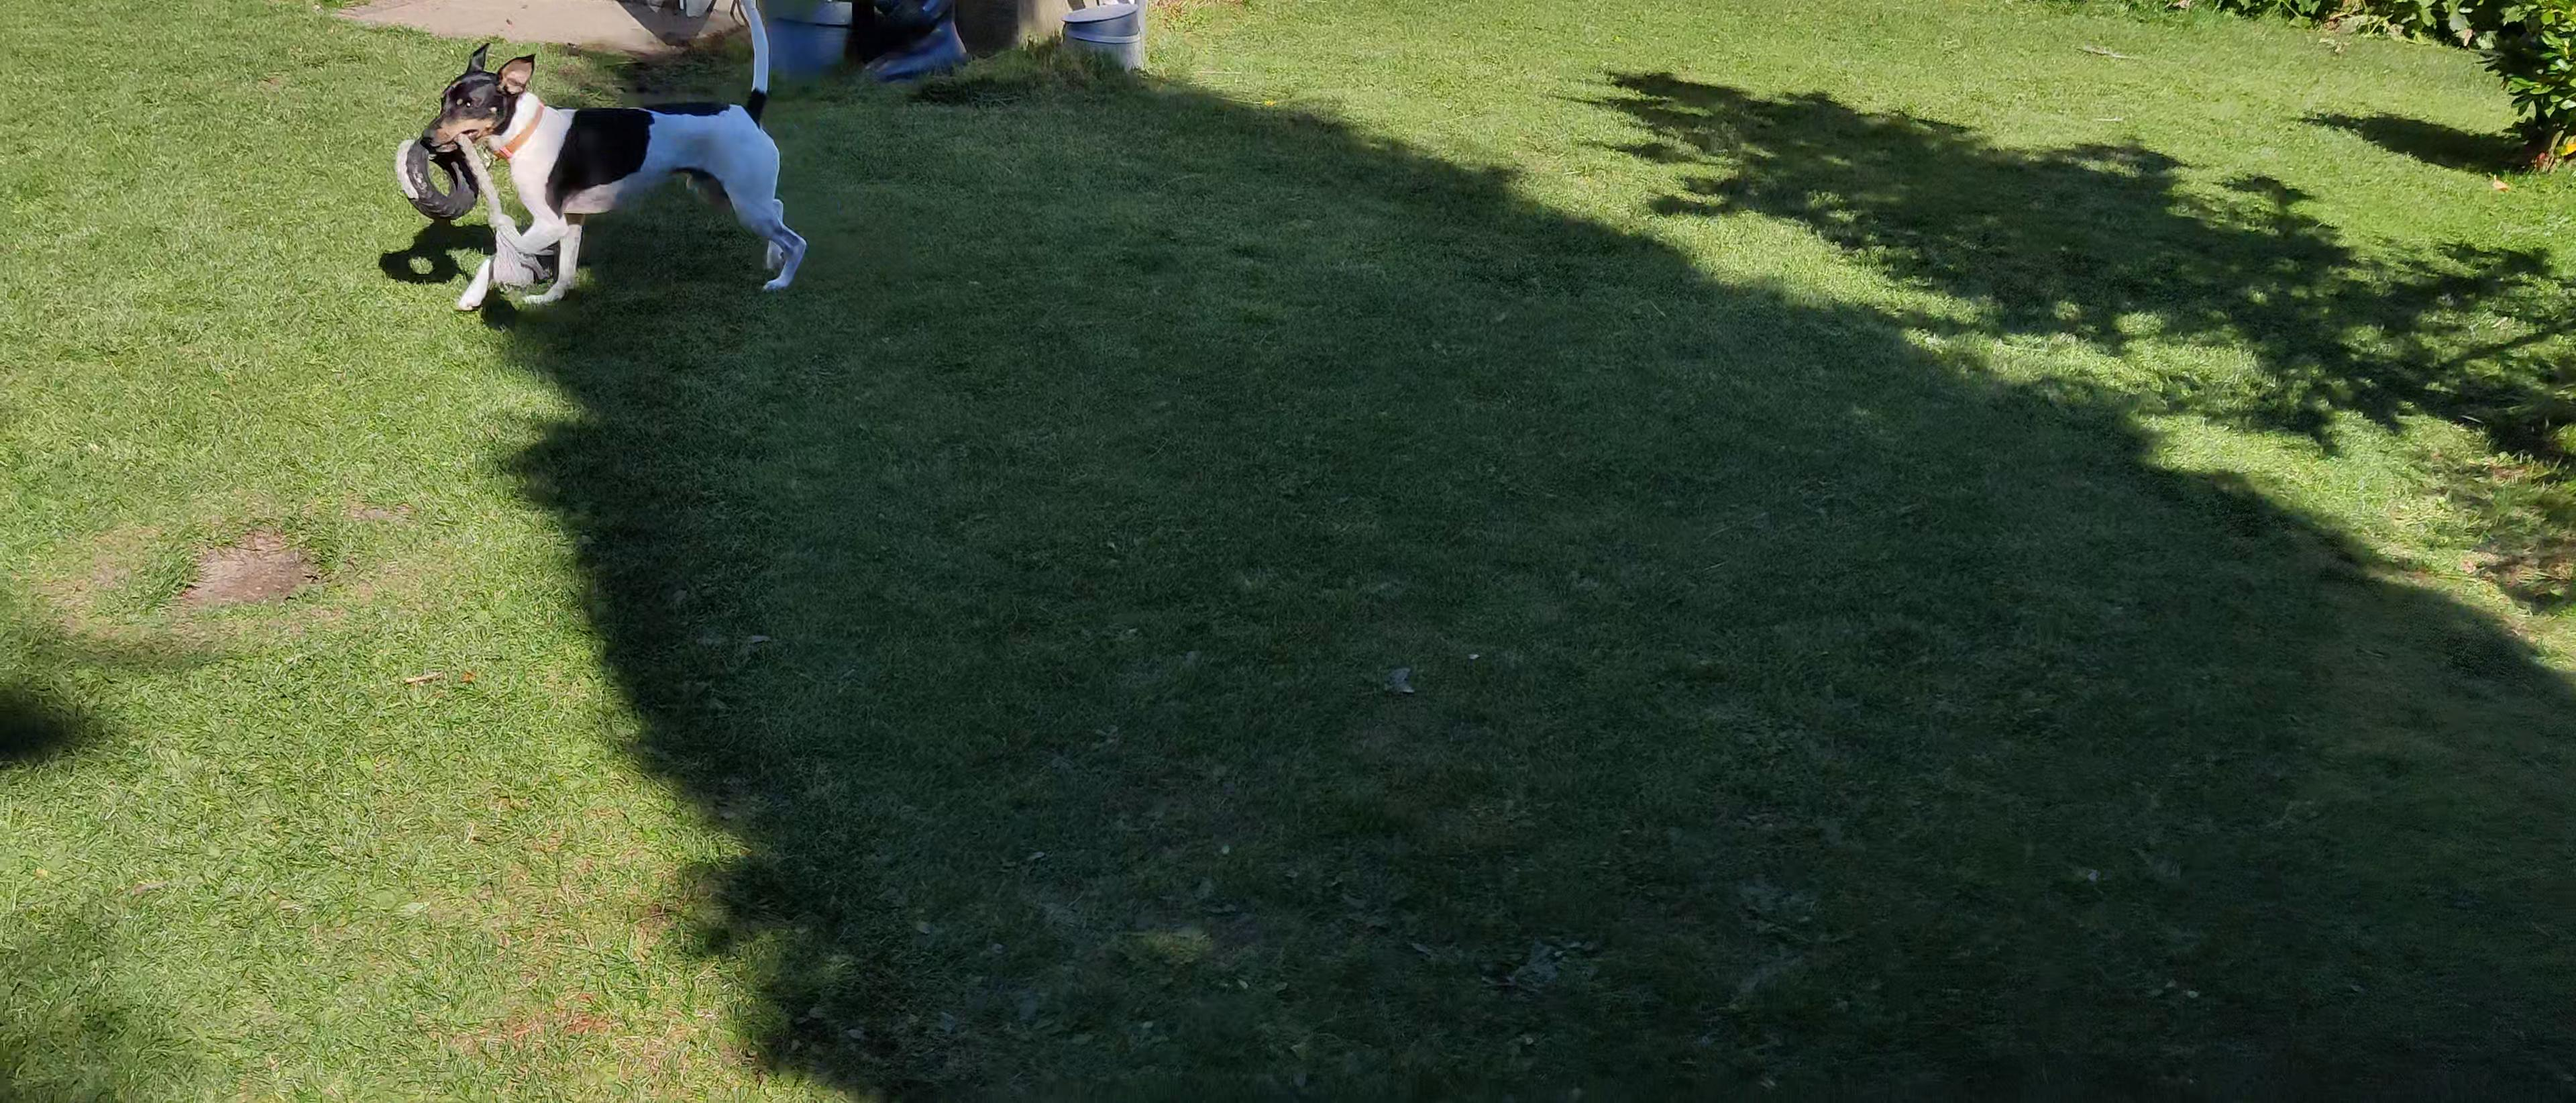Dog: (409, 0, 816, 322)
